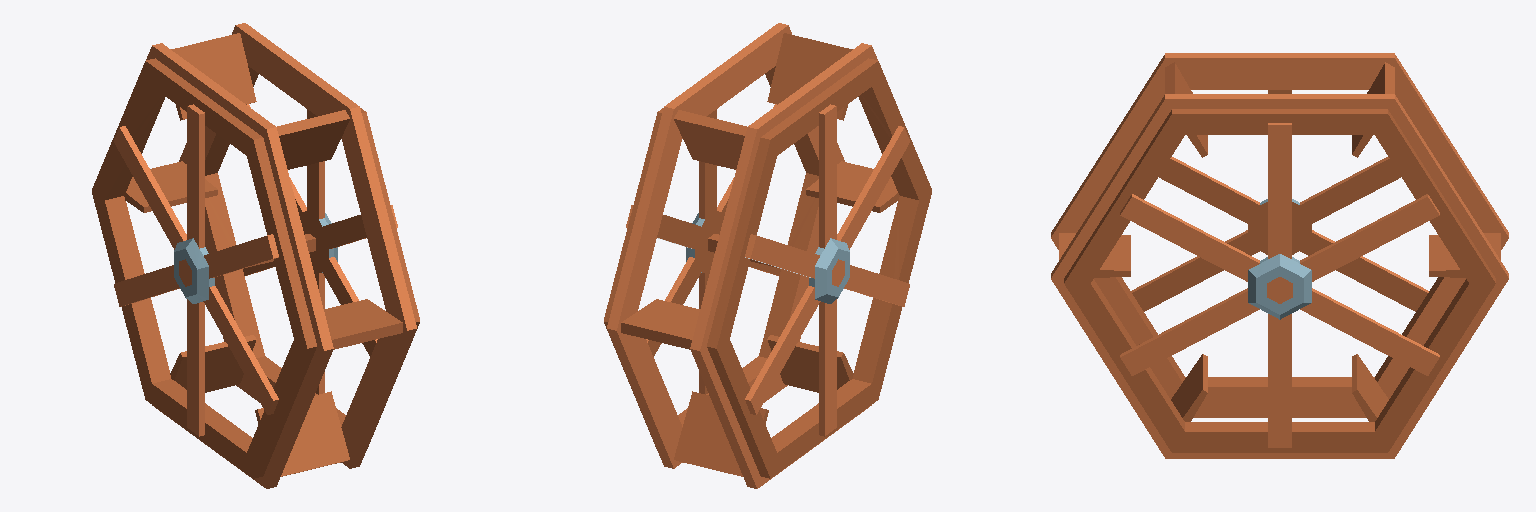
Rendered from watermill.obj.
The picture shows the model from 3 angles: view 1: azimuth 30°, elevation 25°; view 2: azimuth 150°, elevation 25°; view 3: azimuth 270°, elevation 25°; orthographic projection.
Parts seen in each view (by area): view 1: watermill, paddle; view 2: watermill, paddle; view 3: watermill, paddle.
Boxes of the visible parts, box(x1,y1,x2,y2) form: watermill: box(92, 23, 419, 488); paddle: box(124, 33, 402, 476); watermill: box(604, 23, 931, 488); paddle: box(621, 33, 899, 476); watermill: box(1051, 53, 1508, 458); paddle: box(1059, 62, 1500, 421).
Bounding box in the file's own units: 0.71 × 1.73 × 2.